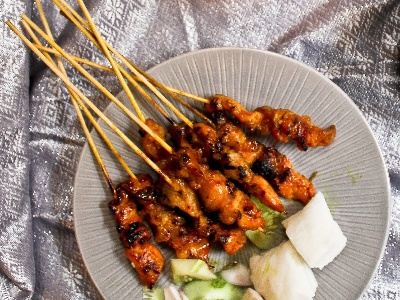sate: (15, 5, 311, 261)
